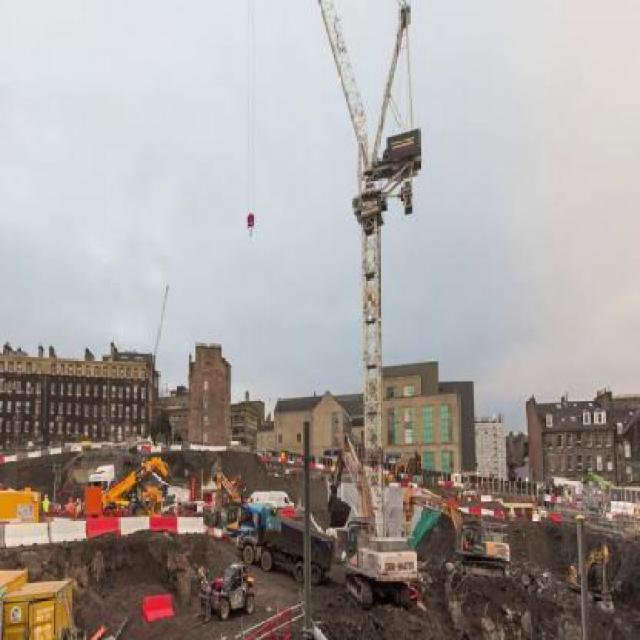Dump Truck: (239, 504, 333, 584)
Excavator: (328, 435, 420, 607), (404, 484, 510, 578), (568, 542, 612, 613), (215, 469, 240, 545)
